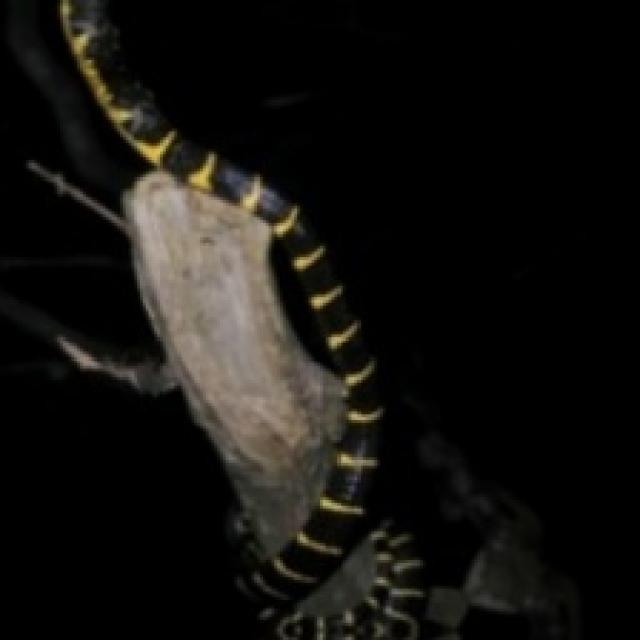mangrove cat snake: (61, 0, 425, 639)
